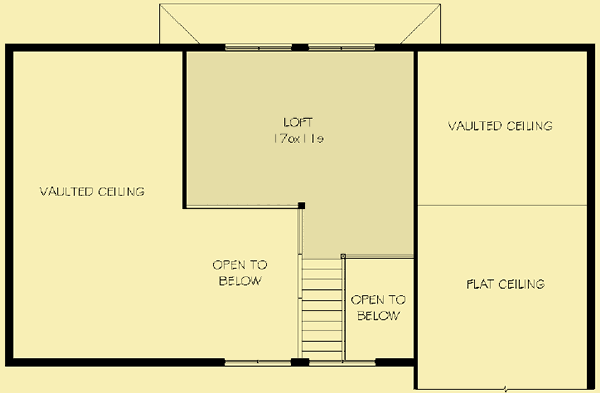stairs: (296, 254, 350, 361)
window: (221, 40, 294, 55), (219, 356, 293, 370), (305, 42, 379, 53), (308, 357, 377, 368)
